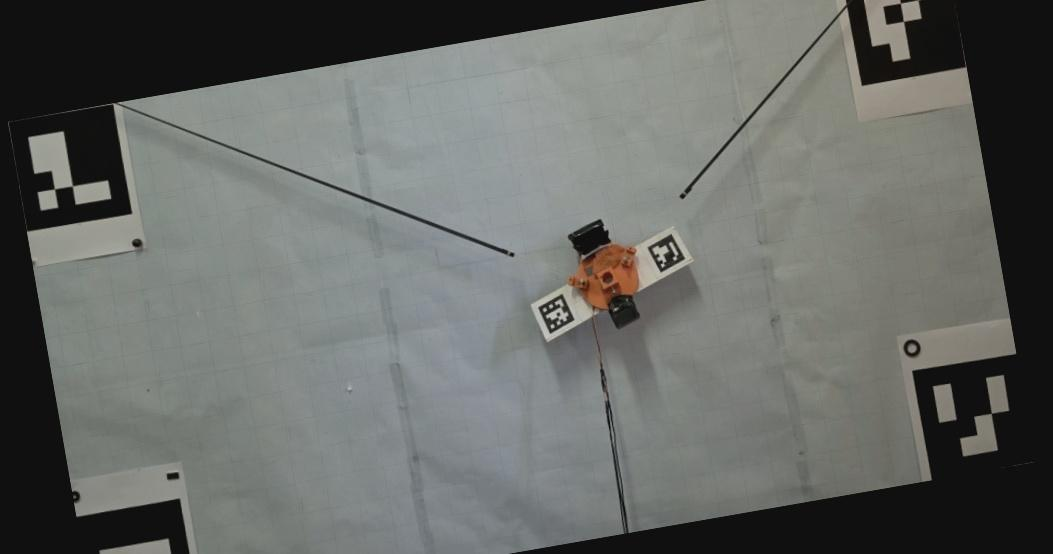robot: (566, 220, 643, 331)
